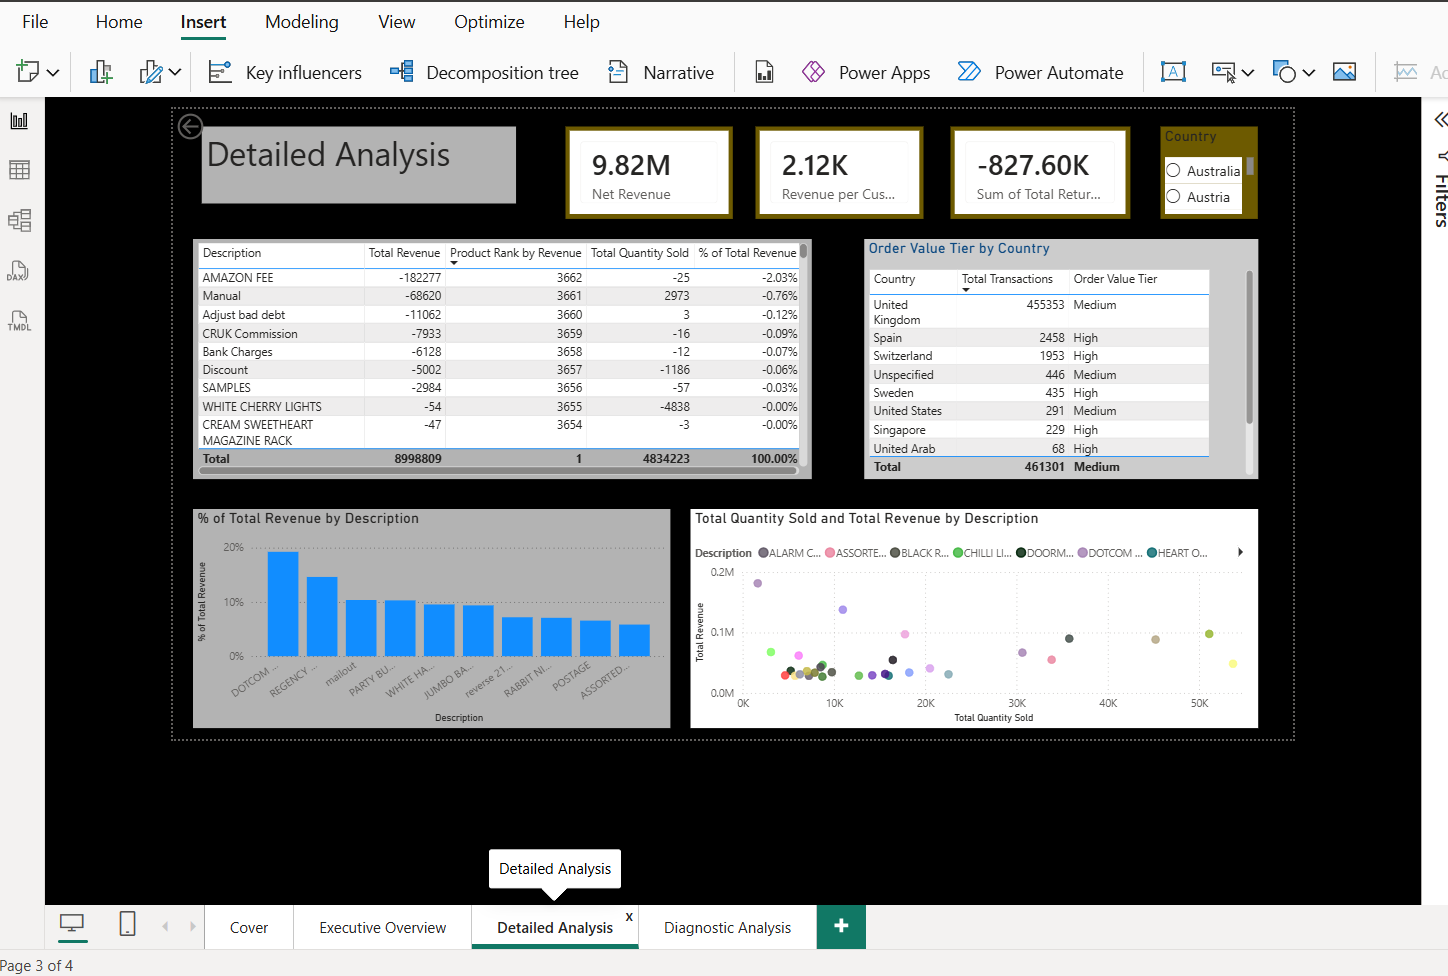

This screenshot's page, from the dashboard's own definition file:
{"tool":"powerbi","page":{"name":"Detailed Analysis","canvas":[1280,720],"ordinal":1},"visuals":[{"type":"cardVisual","fields":{"Data":["Sum(FactSales.Total Returns Revenue)"]},"box":[1051.4,40,202.9,112.9],"z":0},{"type":"cardVisual","fields":{"Data":["FactSales.Net Revenue"]},"box":[622.9,35.7,191.4,117.1],"z":1},{"type":"cardVisual","fields":{"Data":["FactSales.Revenue per Customer"]},"box":[825.7,40,225.7,112.9],"z":2},{"type":"cardVisual","fields":{"Data":["FactSales.Cancellation Rate %"]},"box":[400,40,211.4,112.9],"z":3},{"type":"textbox","box":[22.9,84.3,321.4,68.6],"z":5},{"type":"tableEx","fields":{"Values":["DimProduct.Description","FactSales.Total Revenue","FactSales.Product Rank by Revenue","FactSales.Total Quantity Sold","FactSales.% of Total Revenue"]},"box":[22.9,172.9,778.6,270],"z":6},{"type":"actionButton","box":[0,0,100,40],"z":7},{"type":"scatterChart","box":[537.1,462.9,288.6,215.7],"z":8},{"type":"pieChart","fields":{"Y":["FactSales.Total Transactions"]},"box":[1008.6,484.3,202,173],"z":9},{"type":"listSlicer","fields":{"Values":["DimLocation.Country"]},"box":[1085,173,169,173],"z":10}]}

Visuals, with their boxes on the page's 1280x720 design canvas (x1, y1, x2, y2). These are canvas units, not pixel positions in the 1448x976 screenshot, which may show the page scaled, cropped or inside an application window:
cardVisual - Sum(FactSales.Total Returns Revenue): bbox=[1051, 40, 1254, 153]
cardVisual - FactSales.Net Revenue: bbox=[623, 36, 814, 153]
cardVisual - FactSales.Revenue per Customer: bbox=[826, 40, 1051, 153]
cardVisual - FactSales.Cancellation Rate %: bbox=[400, 40, 611, 153]
textbox: bbox=[23, 84, 344, 153]
tableEx - DimProduct.Description x FactSales.Total Revenue: bbox=[23, 173, 802, 443]
actionButton: bbox=[0, 0, 100, 40]
scatterChart: bbox=[537, 463, 826, 679]
pieChart - FactSales.Total Transactions: bbox=[1009, 484, 1211, 657]
listSlicer - DimLocation.Country: bbox=[1085, 173, 1254, 346]
